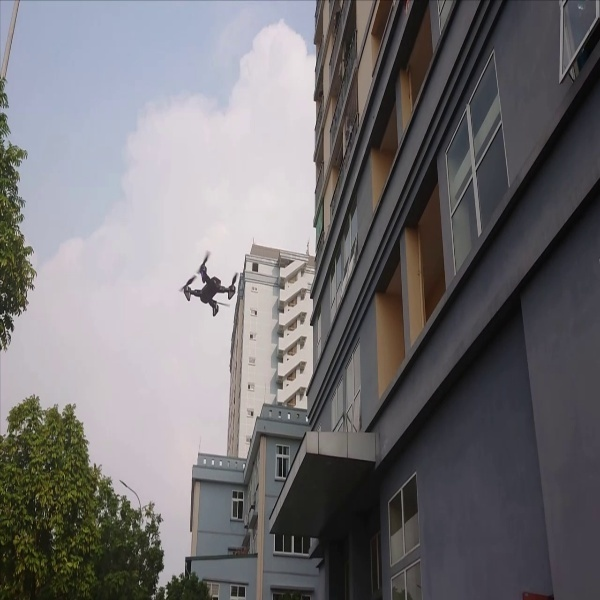drone: (175, 249, 243, 321)
